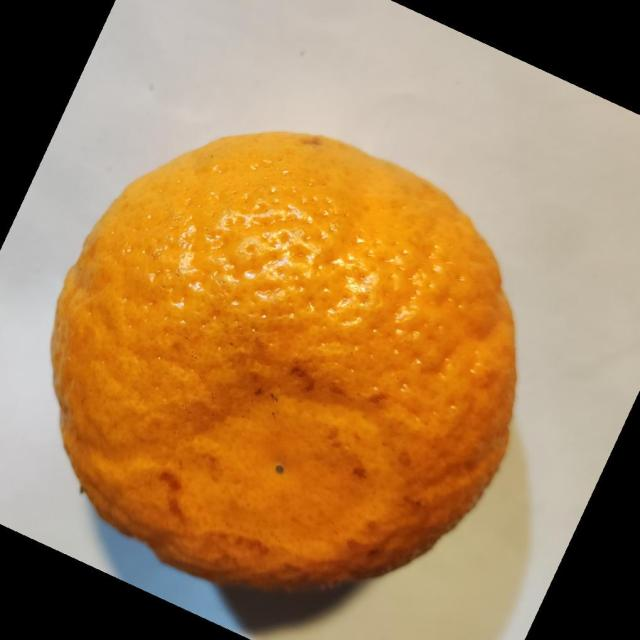fresh orange: (50, 129, 518, 594)
